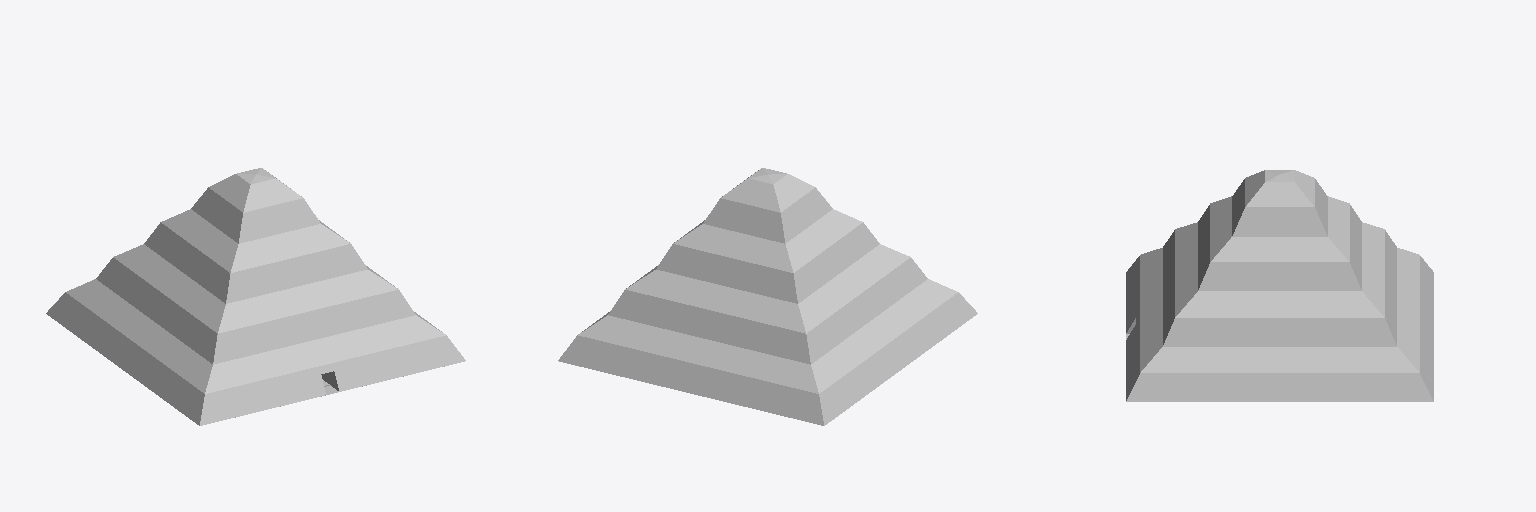
File: Temple.obj
3 renders of one model, left to right at view 1: azimuth 30°, elevation 25°; view 2: azimuth 150°, elevation 25°; view 3: azimuth 270°, elevation 25°, orthographic.
Visible parts, largest first — view 1: Temple_Plane; view 2: Temple_Plane; view 3: Temple_Plane.
Part boxes in pixels (x1,y1,x2,y2): Temple_Plane: (46, 168, 465, 425); Temple_Plane: (558, 168, 977, 425); Temple_Plane: (1126, 170, 1433, 401).
Size of the model in its own units: 39.22 by 22.87 by 39.22.